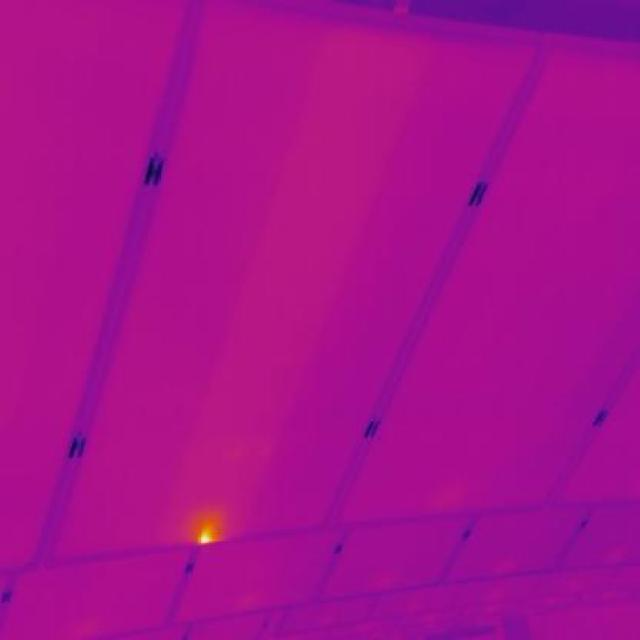hotspot: (188, 523, 221, 548)
